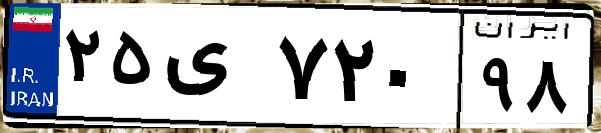0: (385, 28, 445, 110)
2: (330, 28, 385, 110), (57, 26, 110, 100)
5: (110, 28, 158, 98)
7: (270, 28, 330, 110)
8: (525, 38, 570, 115)
9: (475, 38, 525, 113)
ی: (158, 20, 270, 120)
